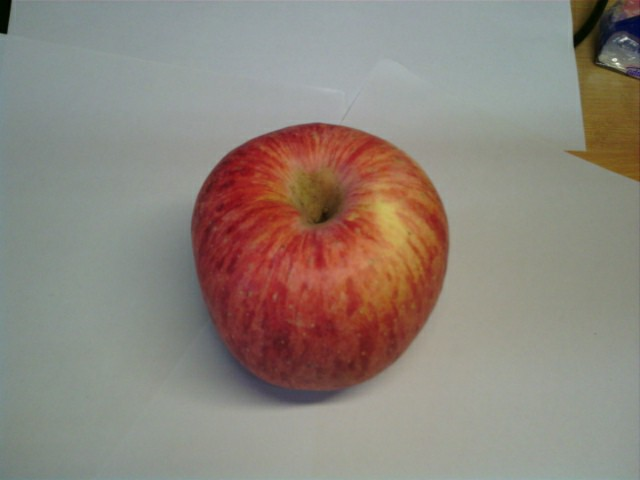normal_apple: (189, 120, 449, 391)
